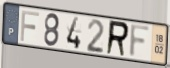2: (86, 18, 104, 54)
4: (65, 16, 82, 51)
8: (43, 12, 60, 48)
F: (128, 23, 152, 60), (19, 9, 41, 43)
R: (104, 19, 131, 59)
